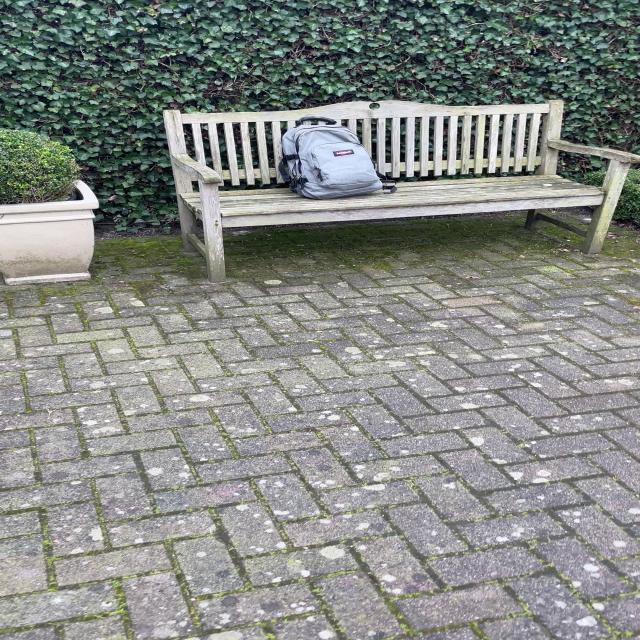backpack: (274, 114, 388, 201)
